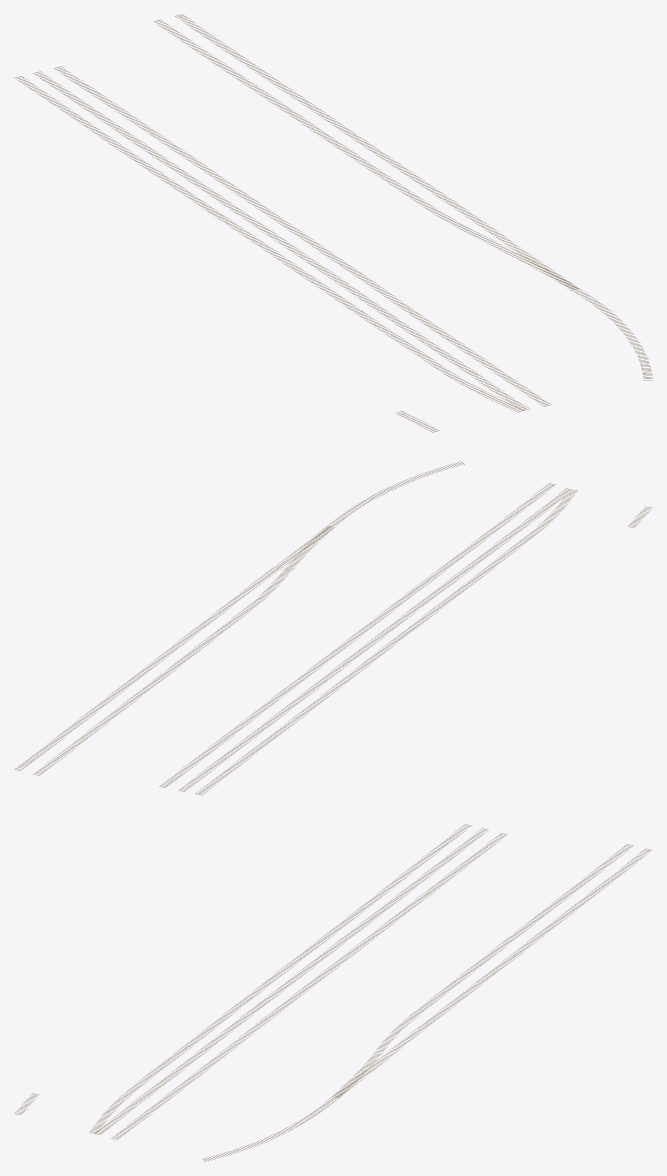
The model's file is c_1631_17822_rail_sleeper.glb.
The picture shows the model from 3 angles, top to bottom: view 1: azimuth 30°, elevation 25°; view 2: azimuth 150°, elevation 25°; view 3: azimuth 330°, elevation 25°; orthographic projection. The views are drawn at different scales.
Parts seen in each view (by area): view 1: geometry_0; view 2: geometry_0; view 3: geometry_0.
Boxes of the visible parts, bbox=[...] form: geometry_0: bbox=[14, 14, 652, 432]; geometry_0: bbox=[14, 461, 652, 795]; geometry_0: bbox=[14, 824, 652, 1161].
Bounding box in the file's own units: 77.47 × 0.8381 × 245.
